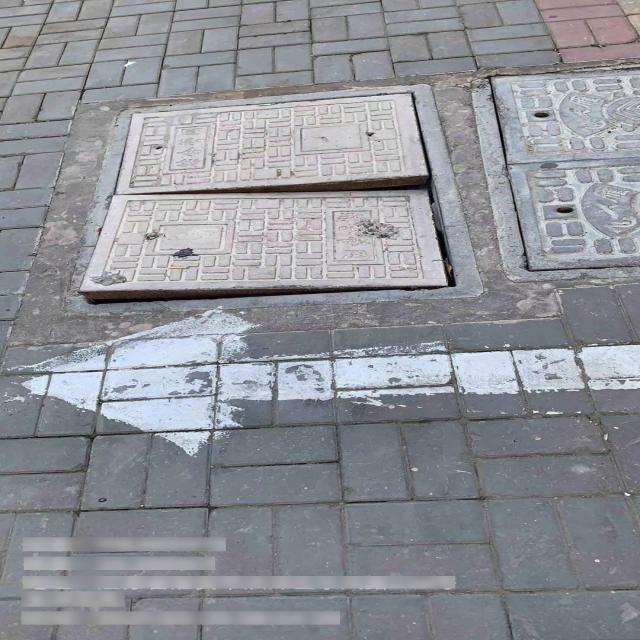Good: (465, 62, 632, 284)
Lose: (67, 83, 484, 310)
